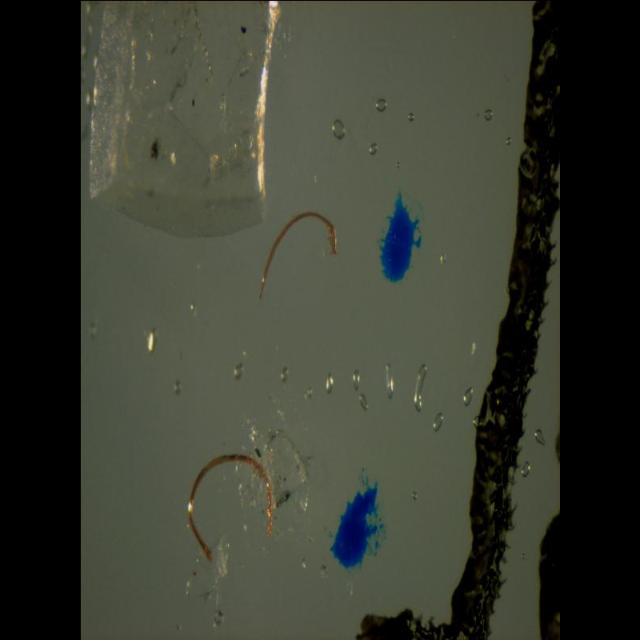Fibre: (181, 442, 279, 580), (257, 205, 339, 312)
